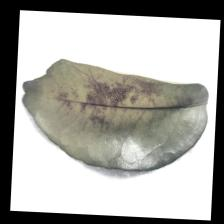canker: (57, 68, 186, 134)
